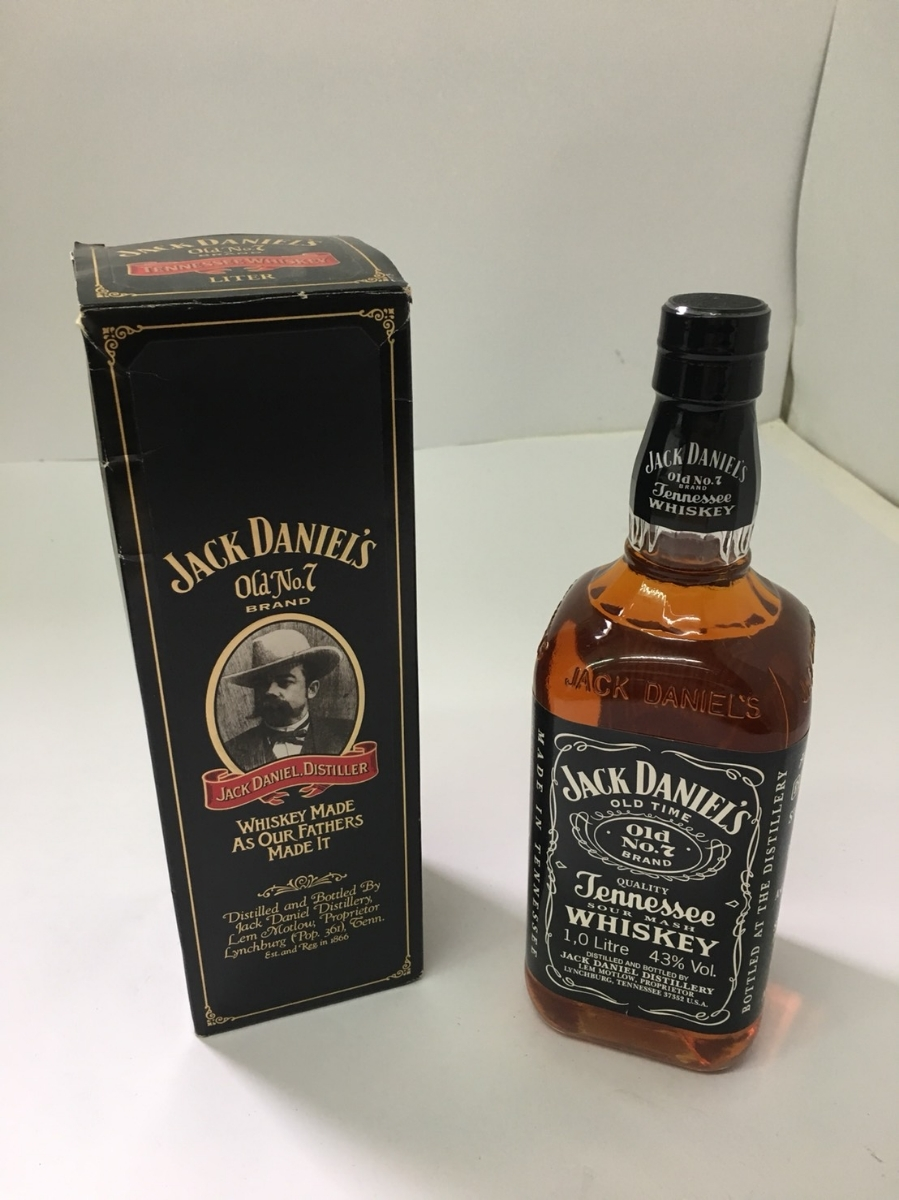Jack Daniel: (511, 278, 833, 1083)
